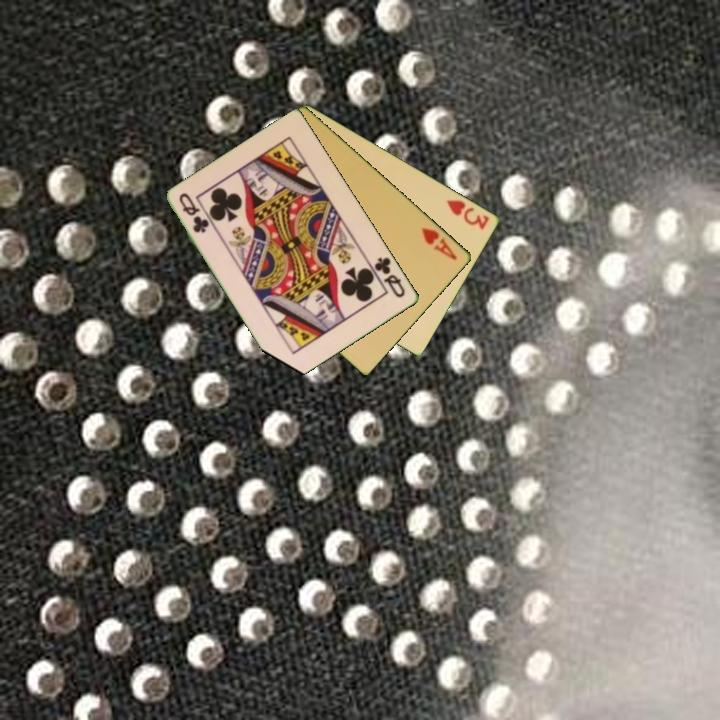3h: (443, 196, 493, 232)
Ah: (418, 224, 460, 263)
Qc: (366, 253, 408, 301), (176, 189, 212, 236)
